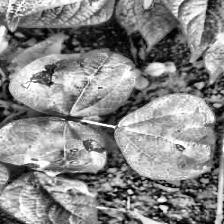ALS: (7, 36, 137, 116), (117, 95, 217, 181), (0, 121, 120, 172), (0, 178, 94, 223)
